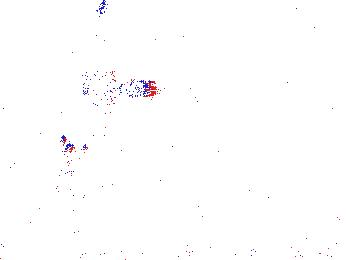flame jellyfish: (43, 135, 96, 210), (74, 66, 155, 112), (241, 161, 311, 205)
